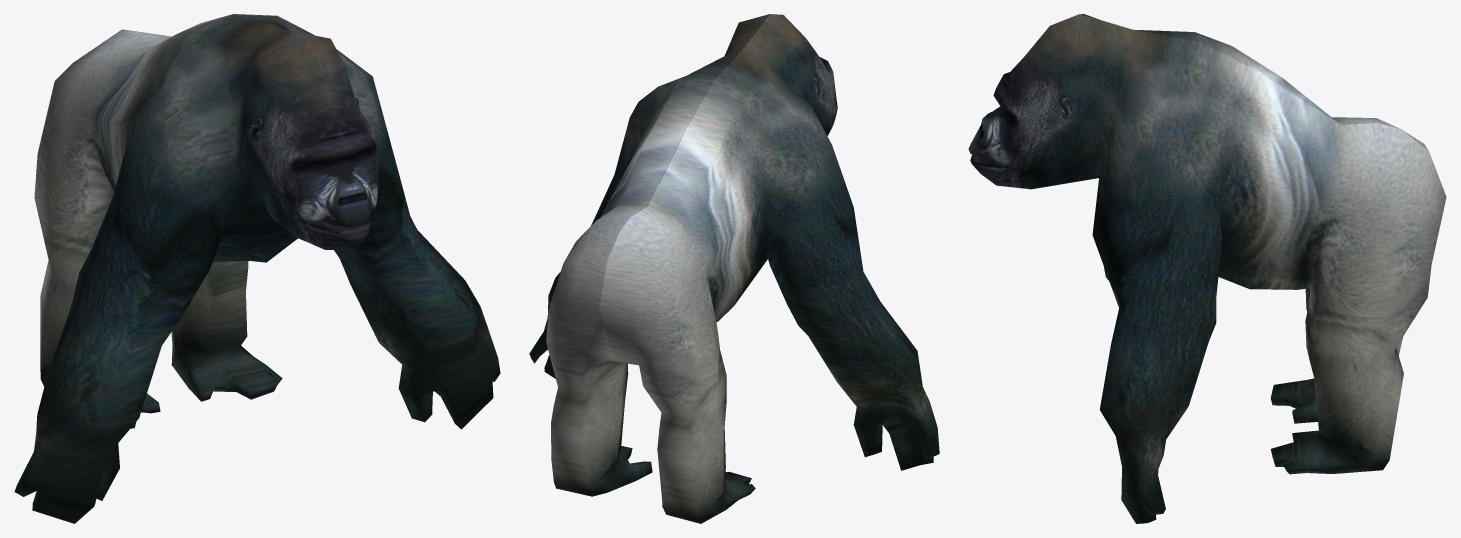
The model's file is gorilla.dae.
The picture shows the model from 3 angles, left to right: view 1: azimuth 30°, elevation 25°; view 2: azimuth 150°, elevation 25°; view 3: azimuth 270°, elevation 25°; orthographic projection. The views are drawn at different scales.
Parts seen in each view (by area): view 1: Gorilla-half (×2); view 2: Gorilla-half (×2); view 3: Gorilla-half (×2).
Part boxes in pixels (<box>): Gorilla-half (×2): <box>14,14,500,523</box>; Gorilla-half (×2): <box>529,14,939,523</box>; Gorilla-half (×2): <box>968,14,1446,523</box>.
Bounding box in the file's own units: 52.59 × 49.34 × 48.29.
2 materials, 1 textured.
